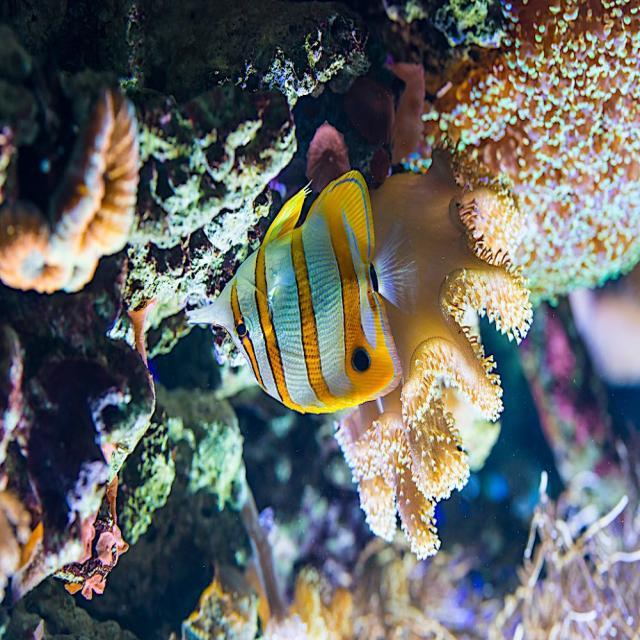ButterflyFish: (176, 159, 420, 417)
